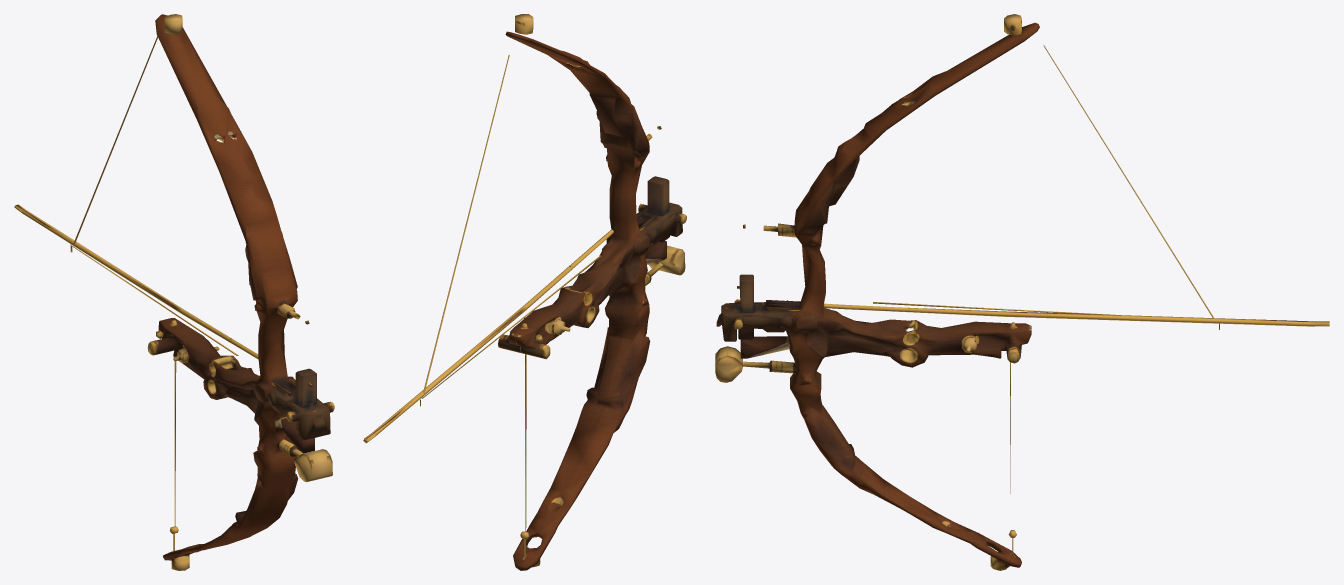
The model's file is green_hazel_bow.glb.
The picture shows the model from 3 angles, left to right: view 1: azimuth 30°, elevation 25°; view 2: azimuth 150°, elevation 25°; view 3: azimuth 270°, elevation 25°; orthographic projection.
Parts seen in each view (by area): view 1: base_model_path; view 2: base_model_path; view 3: base_model_path.
Part boxes in pixels (x1=…): base_model_path: x1=14, y1=14, x2=334, y2=570; base_model_path: x1=363, y1=14, x2=686, y2=570; base_model_path: x1=715, y1=14, x2=1329, y2=570.
Size of the model in its own units: 0.0881 by 0.9863 by 1.
Materials: 1 (1 with a texture image).
